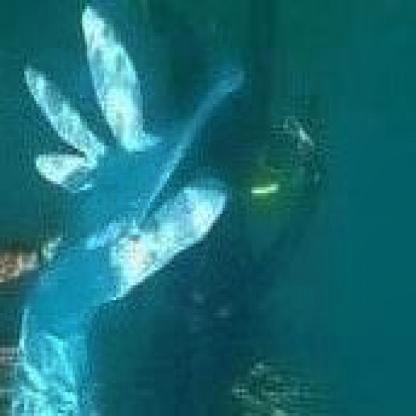glove: (19, 3, 249, 413)
